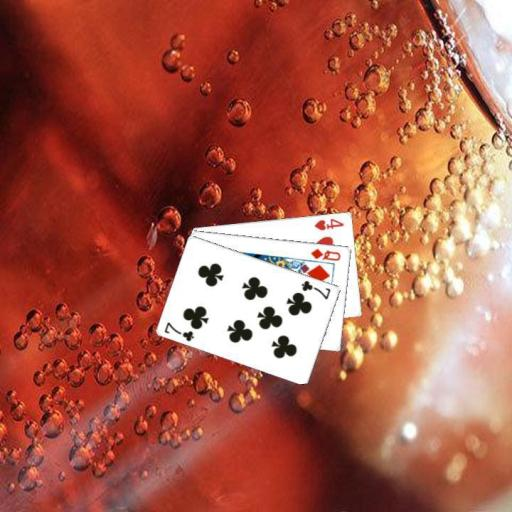card-corner: (162, 318, 196, 342), (299, 277, 332, 301), (311, 215, 345, 232), (308, 246, 342, 262)
